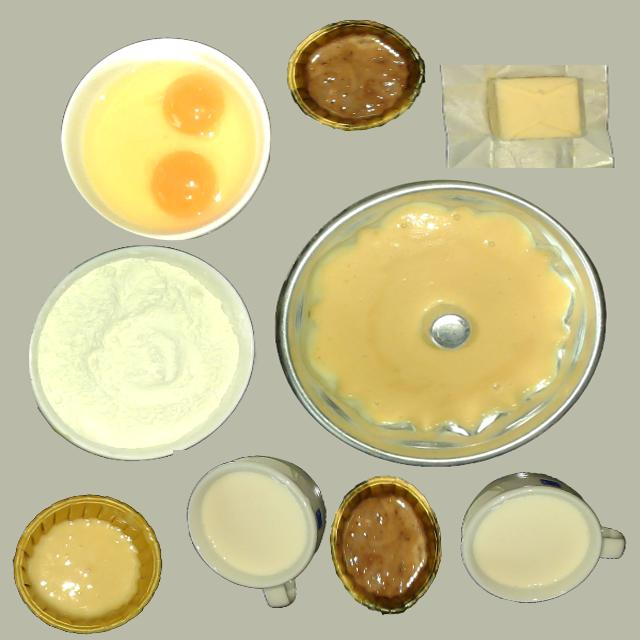Egg: (151, 152, 217, 216), (162, 74, 226, 136)
Flour: (28, 248, 251, 463)
Milk: (461, 474, 626, 606), (460, 472, 624, 603), (186, 459, 326, 610)
